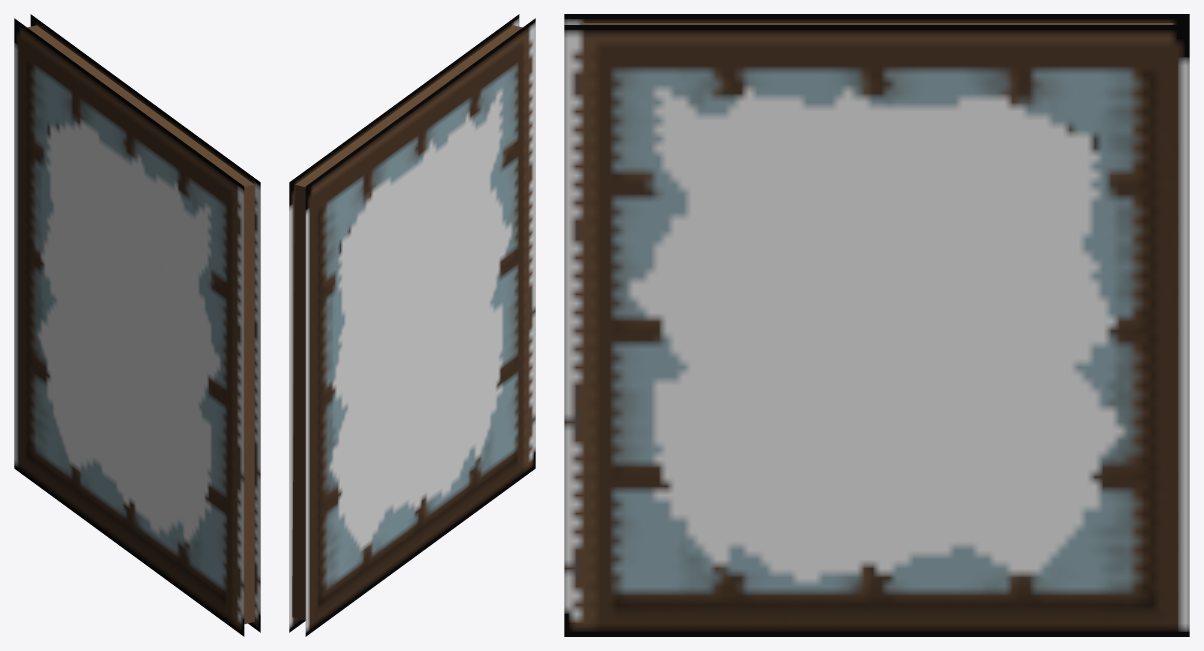
The model's file is pz_native_fixtures_windows_wood_82_frame.obj.
3 renders of one model, left to right at view 1: azimuth 30°, elevation 25°; view 2: azimuth 150°, elevation 25°; view 3: azimuth 270°, elevation 25°, orthographic. The views are drawn at different scales.
Visible parts, largest first — view 1: pz_native_fixtures_windows_wood_82_frame; view 2: pz_native_fixtures_windows_wood_82_frame; view 3: pz_native_fixtures_windows_wood_82_frame.
Boxes of the visible parts, x1,y1,x2,y2 form: pz_native_fixtures_windows_wood_82_frame: [14, 14, 260, 636]; pz_native_fixtures_windows_wood_82_frame: [289, 14, 535, 636]; pz_native_fixtures_windows_wood_82_frame: [564, 14, 1189, 636].
Size of the model in its own units: 0.04 by 1.05 by 0.9696.
Materials: 1 (1 with a texture image).
